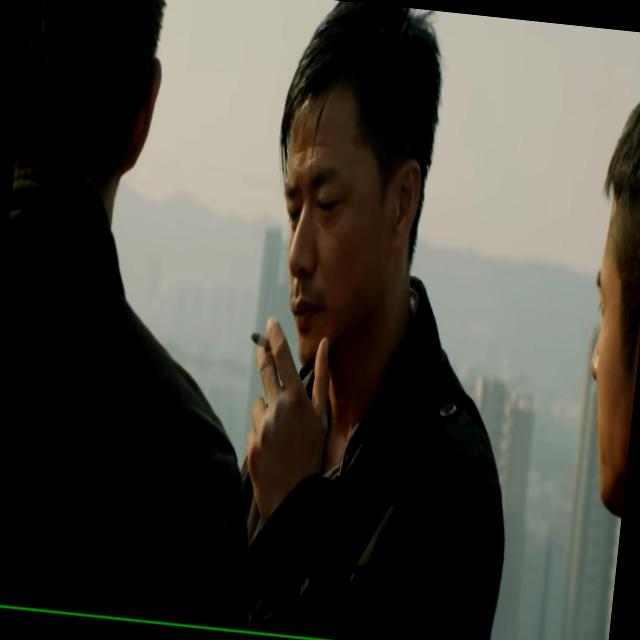smoke: (246, 324, 280, 354)
